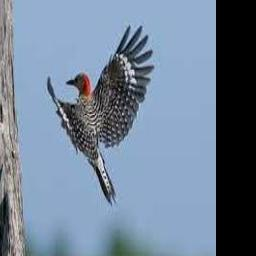Woodpecker: (47, 25, 155, 205)
